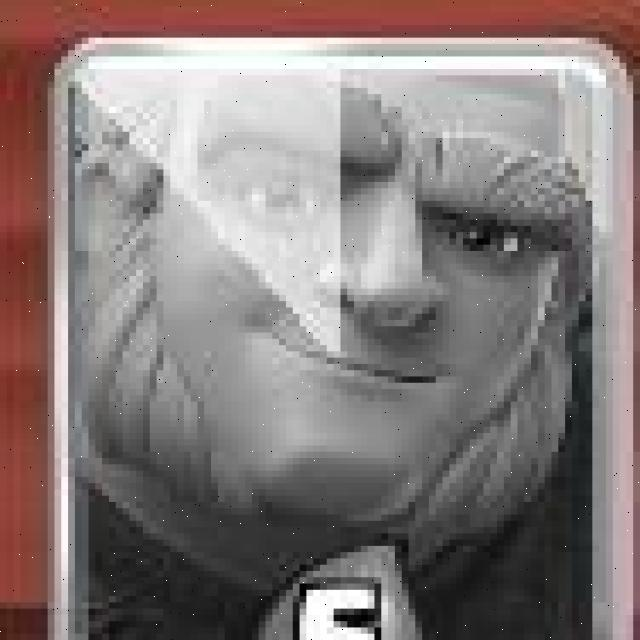Giant: (53, 37, 636, 638)
